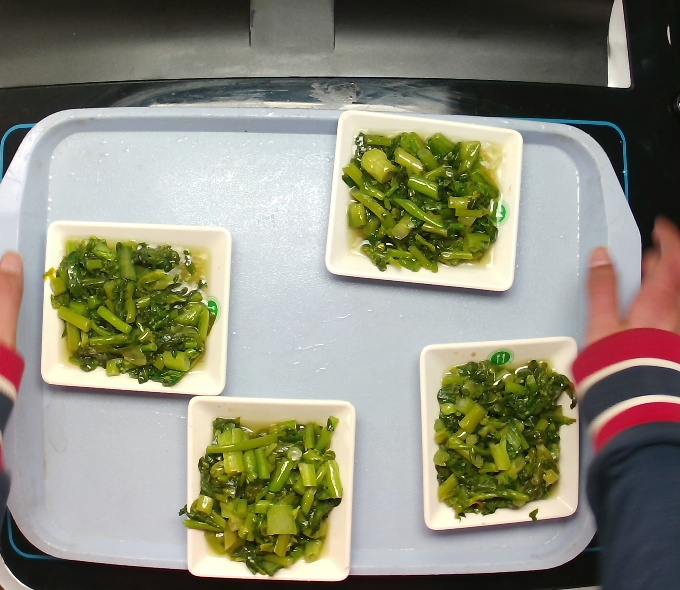wcq-YouCaiHua: (435, 343, 578, 537), (338, 119, 507, 279), (186, 410, 343, 575), (53, 233, 213, 387)
